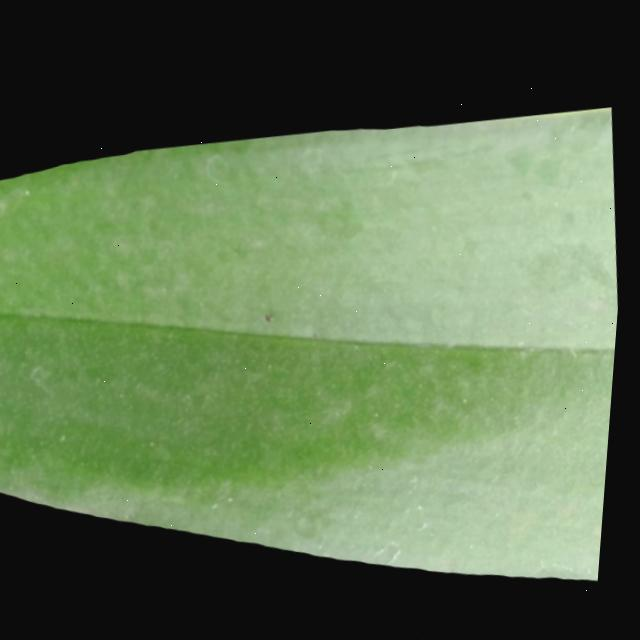mite: (507, 148, 537, 177), (30, 362, 59, 389), (56, 427, 79, 450), (148, 434, 169, 454), (267, 311, 280, 323), (63, 432, 75, 445), (152, 438, 165, 449), (0, 389, 3, 401)
